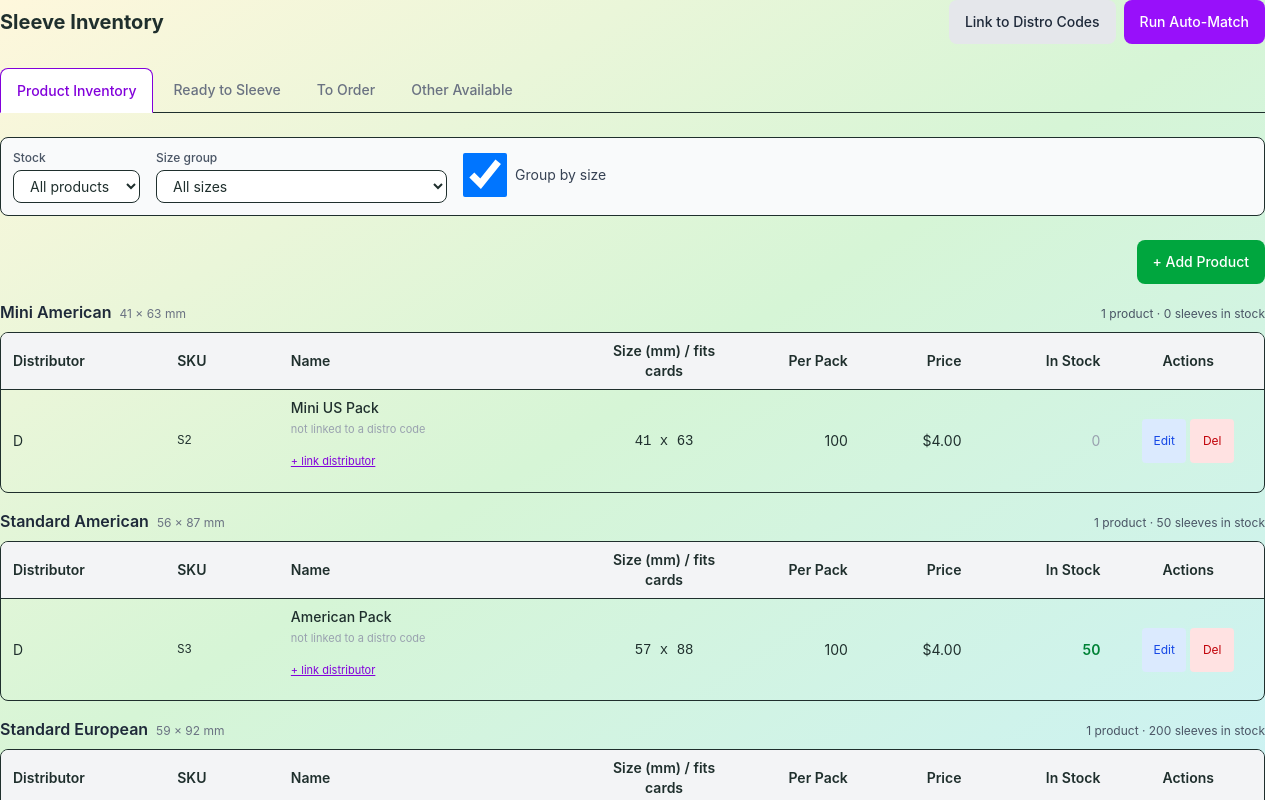
it: SleeveInventoryTab › stock filter and size groups › to-order shows one row per product with no size column
The width and height of the screenshot is (1280, 800).
Click the button "To Order" at (346, 90), box [301, 68, 391, 112]
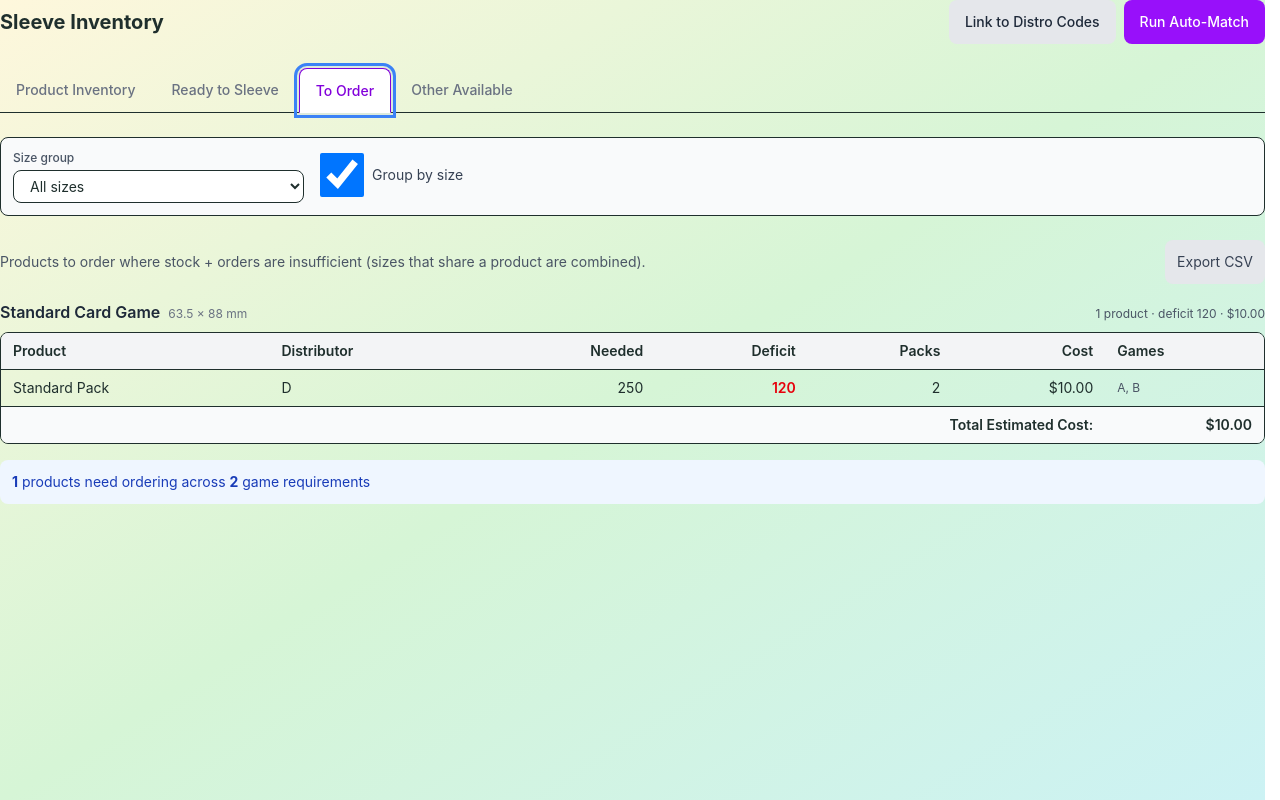
Now the text "Standard Pack" is shown once, box [1, 370, 269, 406]
Now the column heading "Size (mm)" is gone
Now the text "1 products need ordering across 2 game requirements" is shown, box [0, 460, 1265, 504]
